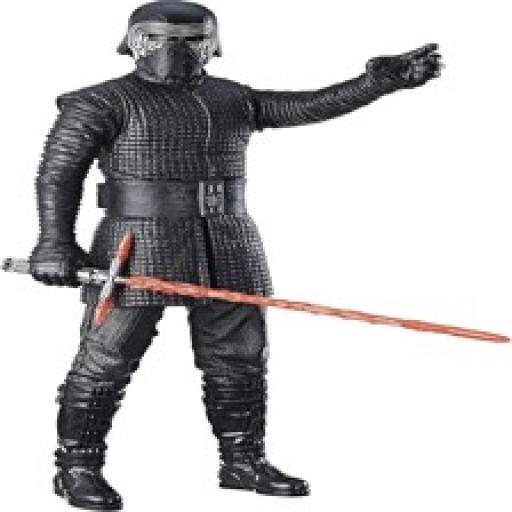human: (28, 5, 454, 508)
sith saber: (4, 246, 512, 366)
